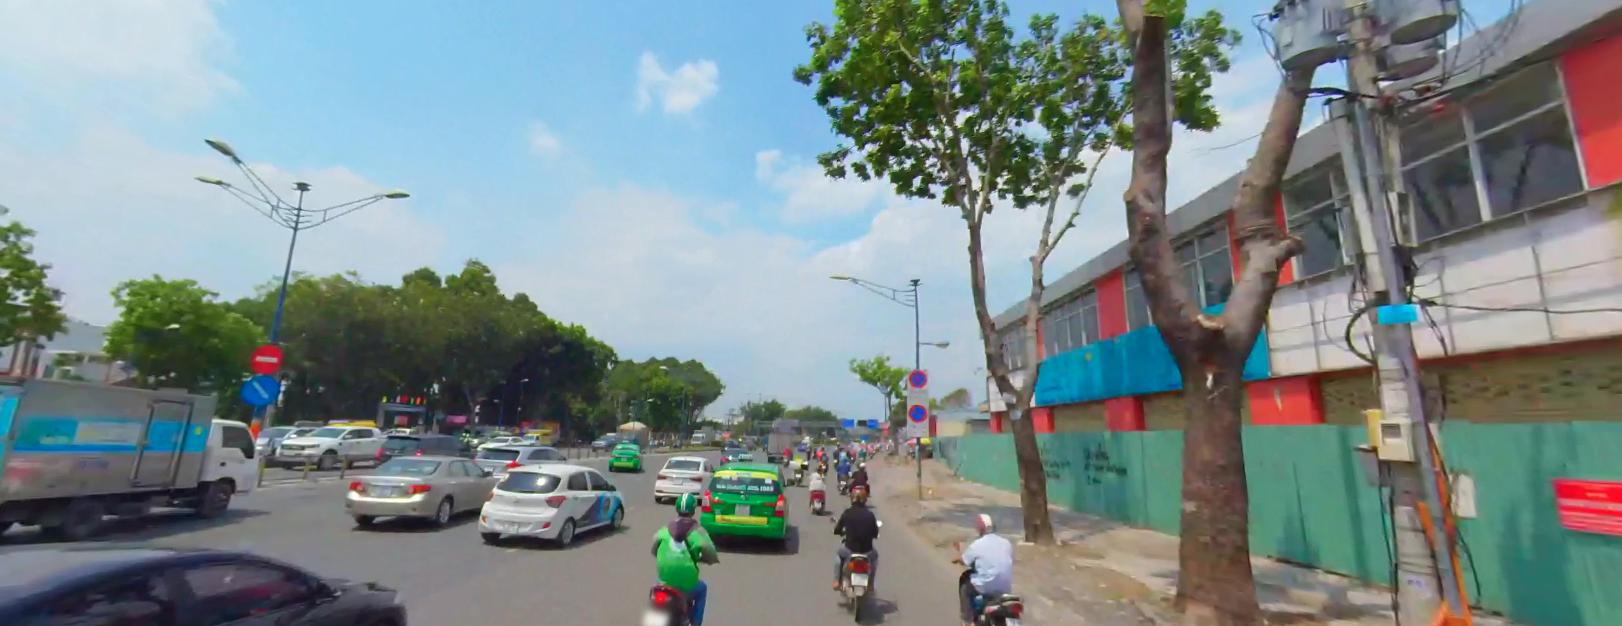Cam dung va do: (908, 403, 927, 420), (909, 368, 927, 387)
Cam nguoc chieu: (250, 342, 284, 372)
Hieu lenh: (241, 372, 280, 403)
